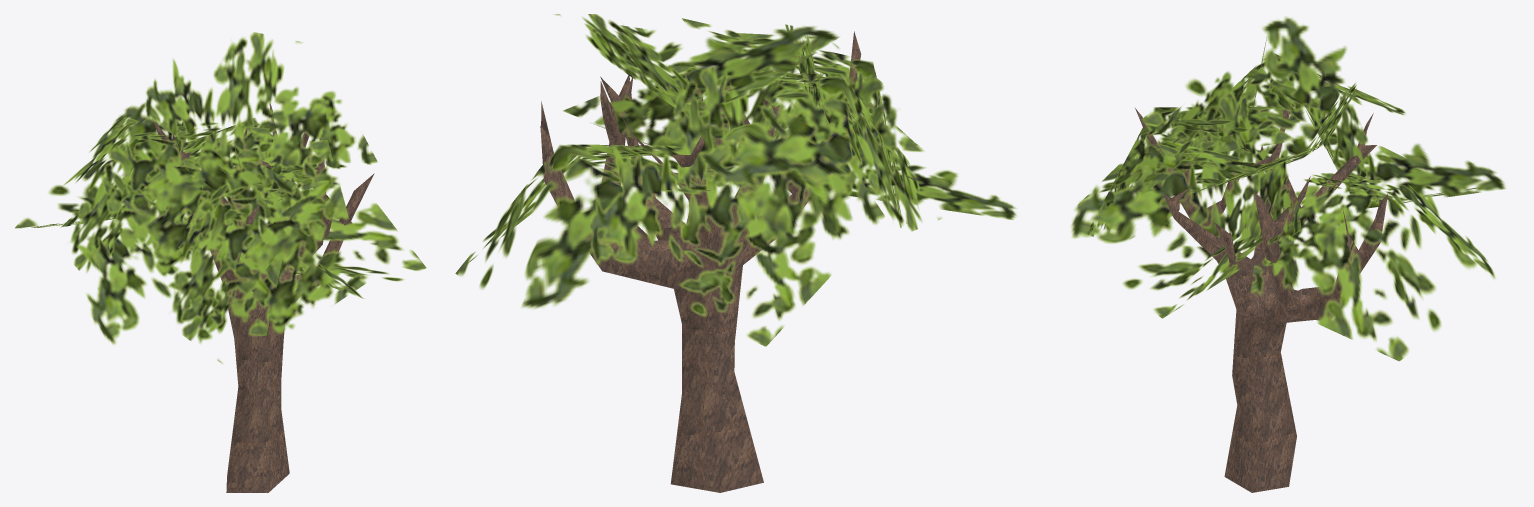
The picture shows the model from 3 angles, left to right: view 1: azimuth 30°, elevation 25°; view 2: azimuth 150°, elevation 25°; view 3: azimuth 270°, elevation 25°; orthographic projection. The views are drawn at different scales.
Visible parts, largest first — view 1: leaves1, tree01; view 2: leaves1, tree01; view 3: leaves1, tree01.
Part boxes in pixels (<box>): leaves1: <box>15,32,426,363</box>; tree01: <box>152,103,374,492</box>; leaves1: <box>455,14,1016,346</box>; tree01: <box>540,31,861,492</box>; leaves1: <box>1070,16,1506,361</box>; tree01: <box>1135,103,1387,492</box>.
Bounding box in the file's own units: 242 × 281 × 266.
Materials: 2 (2 with a texture image).
